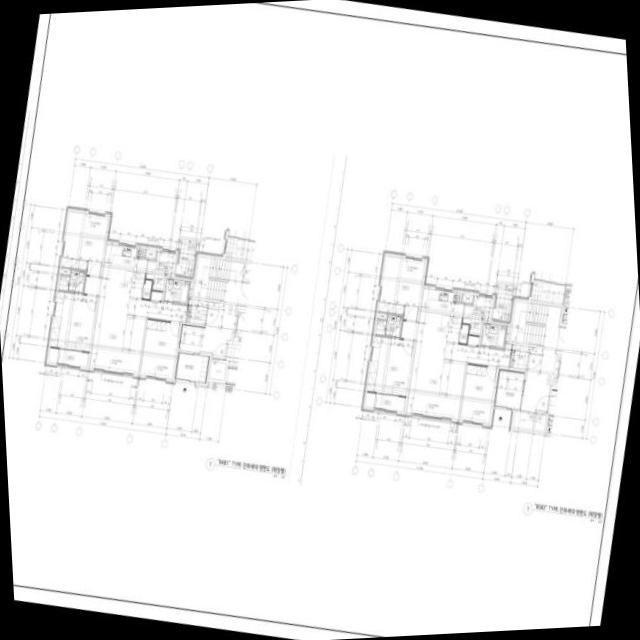background: (0, 0, 640, 640)
space_balconi: (379, 256, 425, 314), (145, 251, 177, 291), (462, 296, 494, 336), (492, 283, 516, 321), (57, 349, 89, 367), (374, 394, 406, 412)
space_bedroom: (62, 212, 108, 277), (51, 291, 97, 352), (368, 336, 414, 396), (140, 319, 180, 379), (460, 364, 497, 424), (394, 281, 422, 321)
space_elevator: (234, 309, 246, 343), (556, 354, 563, 387)
space_elevator_hall: (179, 300, 247, 360), (521, 345, 564, 414)
space_front: (494, 369, 525, 410), (175, 352, 210, 384), (187, 299, 207, 324), (510, 344, 529, 370)
space_kitchen: (417, 289, 464, 343), (100, 244, 147, 298)
space_living_room: (401, 320, 512, 419), (84, 275, 187, 375), (150, 290, 163, 303), (467, 335, 480, 346)
space_other: (513, 412, 535, 430), (209, 362, 226, 381), (534, 415, 546, 432), (142, 280, 152, 299), (459, 325, 469, 344), (365, 392, 376, 408), (48, 347, 59, 363), (244, 263, 252, 280), (462, 294, 473, 304), (145, 250, 156, 259), (506, 326, 510, 342), (378, 313, 387, 320), (61, 268, 70, 275), (505, 313, 510, 322)
space_staircase: (510, 301, 567, 348), (194, 257, 250, 304)
space_toilet: (164, 278, 190, 305), (480, 323, 507, 349), (375, 314, 403, 338), (59, 270, 86, 293)
